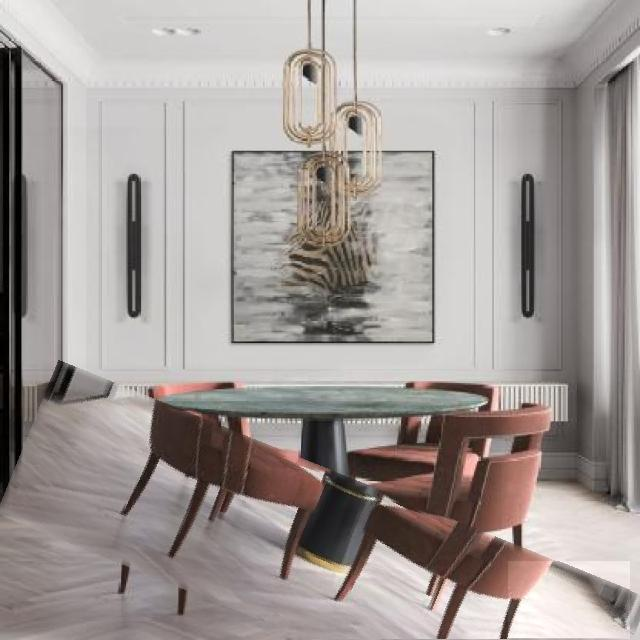floor: (0, 397, 453, 640), (509, 562, 630, 639), (447, 591, 509, 640)
